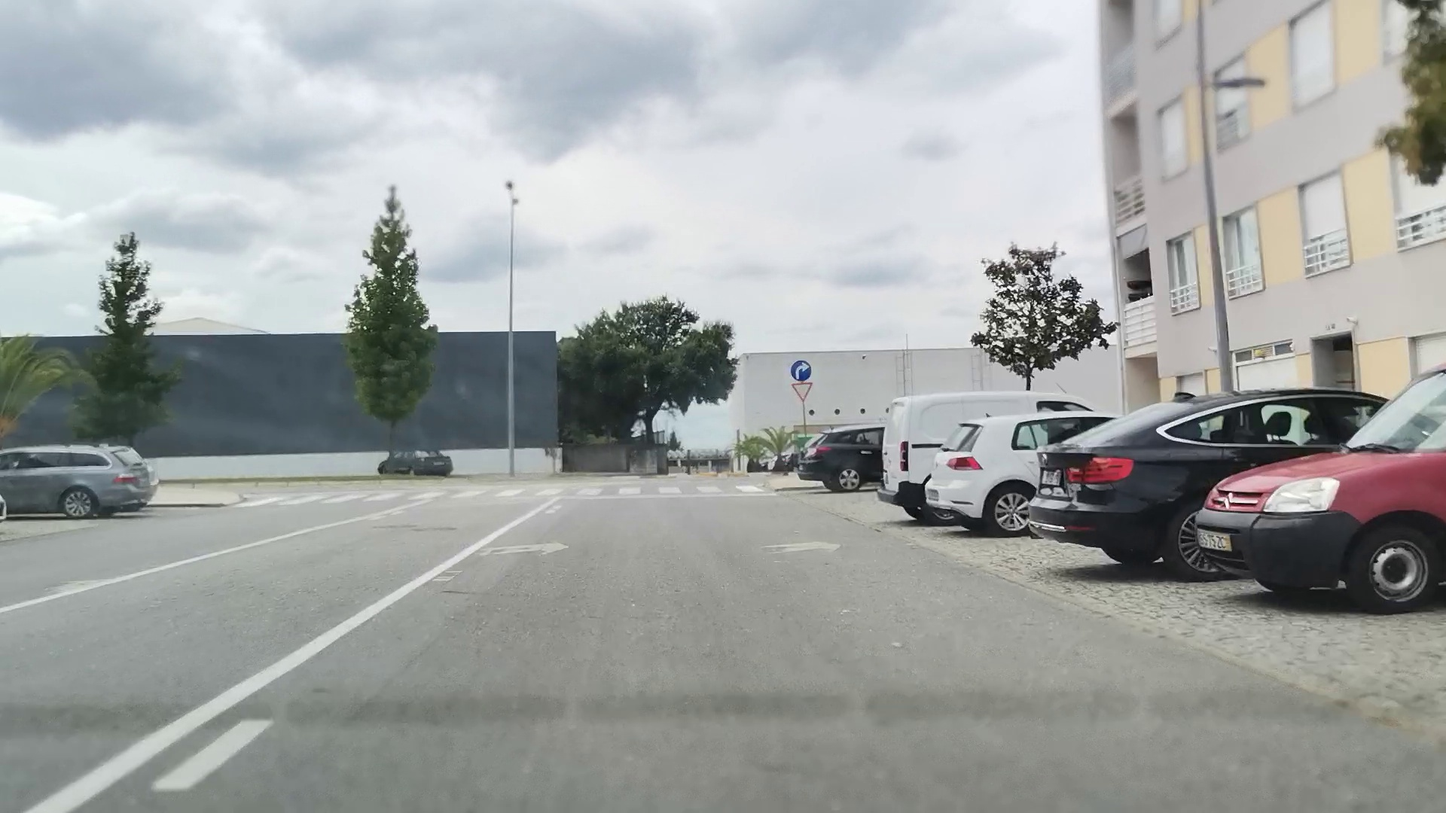Stairs: (239, 484, 770, 508)
